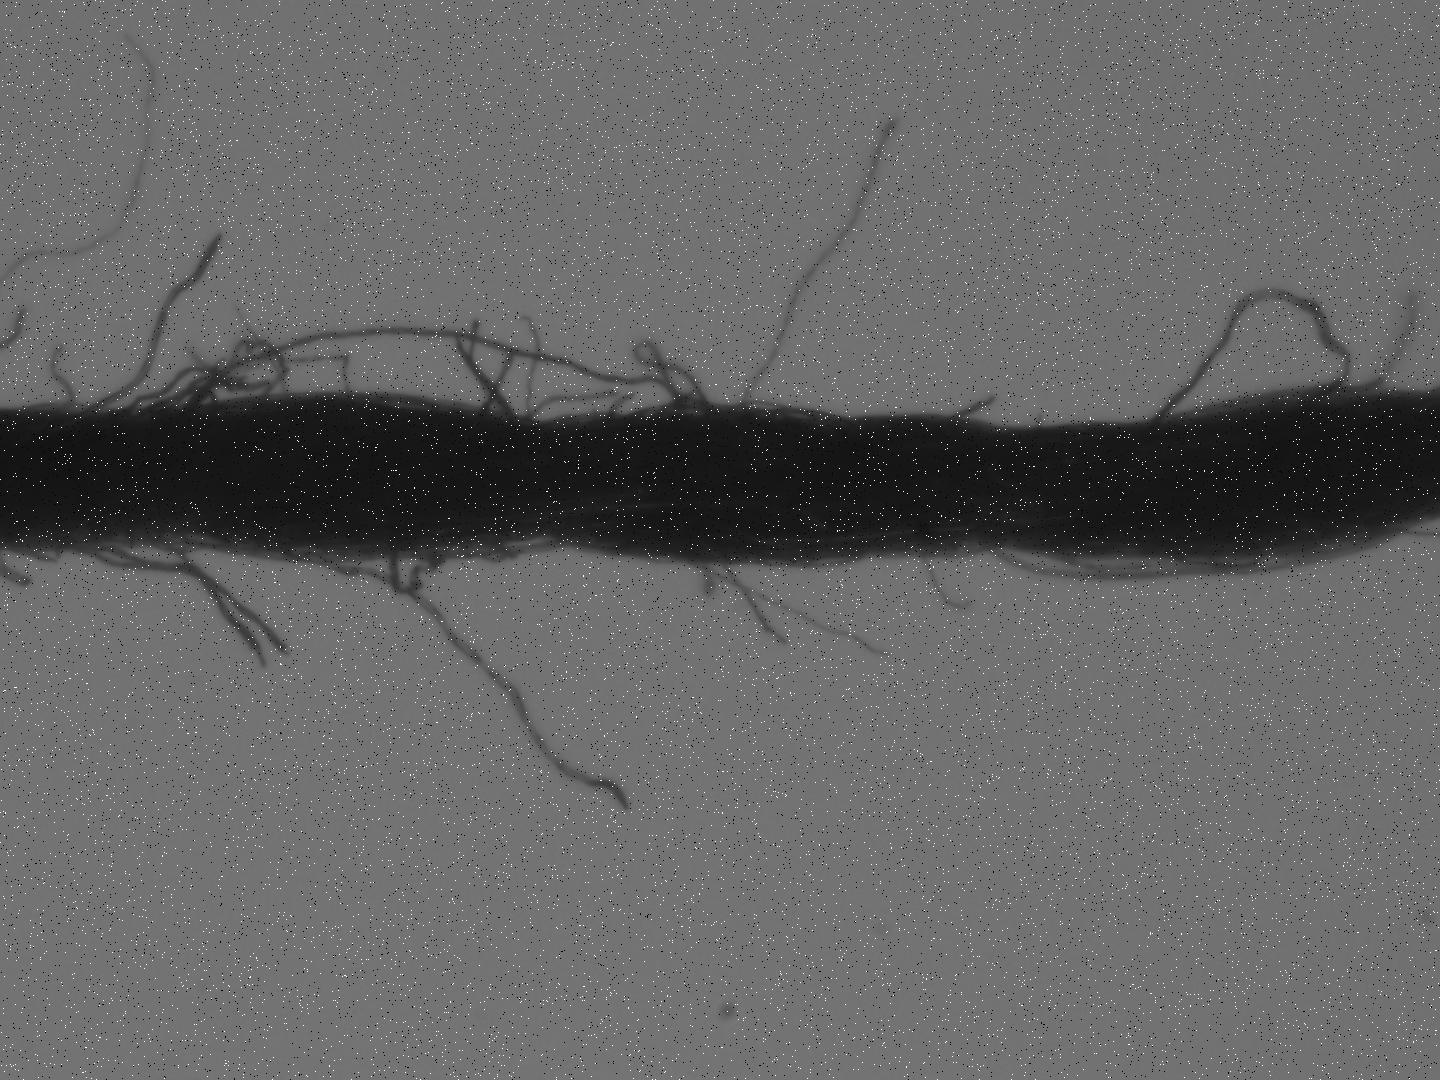loop_fiber: (185, 321, 677, 419), (1145, 285, 1355, 424), (993, 520, 1400, 581), (120, 361, 270, 411), (644, 387, 821, 414), (465, 529, 569, 560), (387, 548, 446, 597)
protruding_fiber: (734, 115, 900, 413), (79, 230, 225, 408), (173, 550, 291, 656), (717, 555, 787, 649), (516, 309, 540, 416), (948, 387, 1000, 417)
